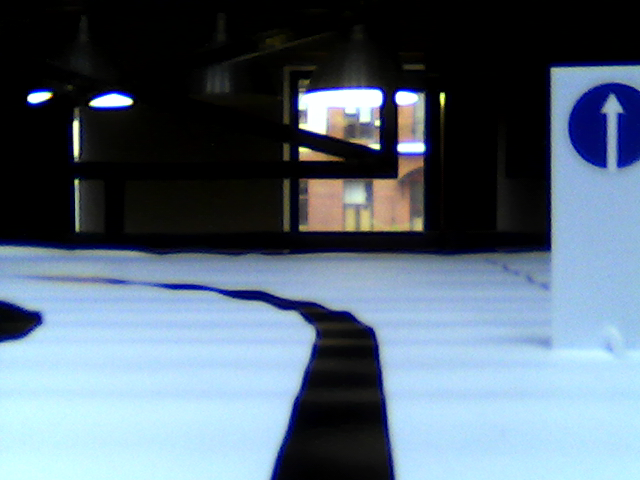forw: (571, 82, 640, 171)
